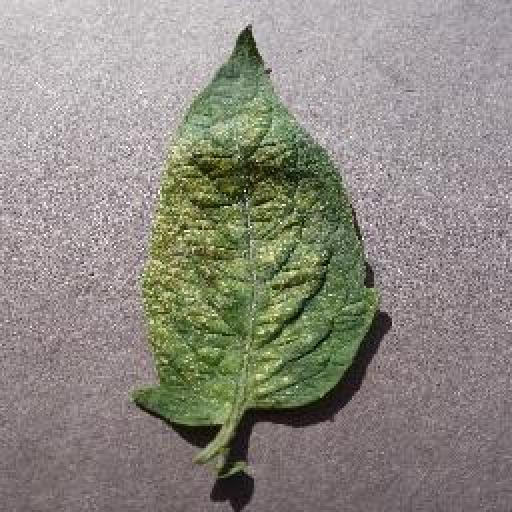Spider Mites: (132, 23, 383, 425)
